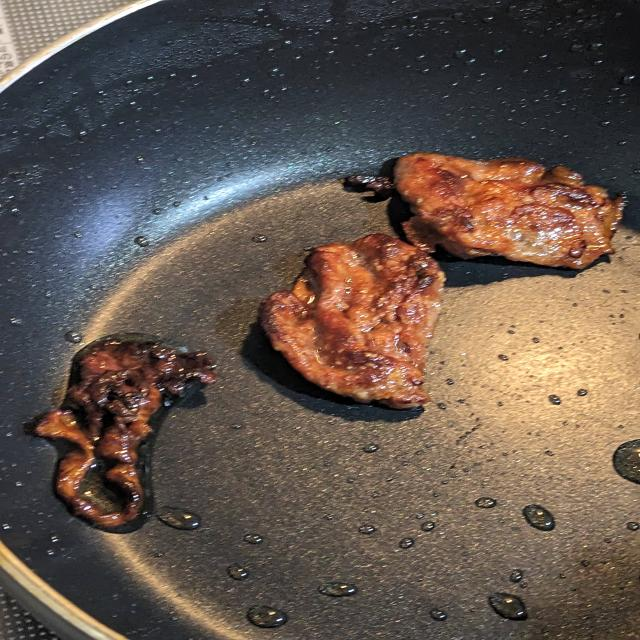overcooked pork: (22, 327, 237, 536), (244, 226, 456, 415), (335, 151, 636, 277)
